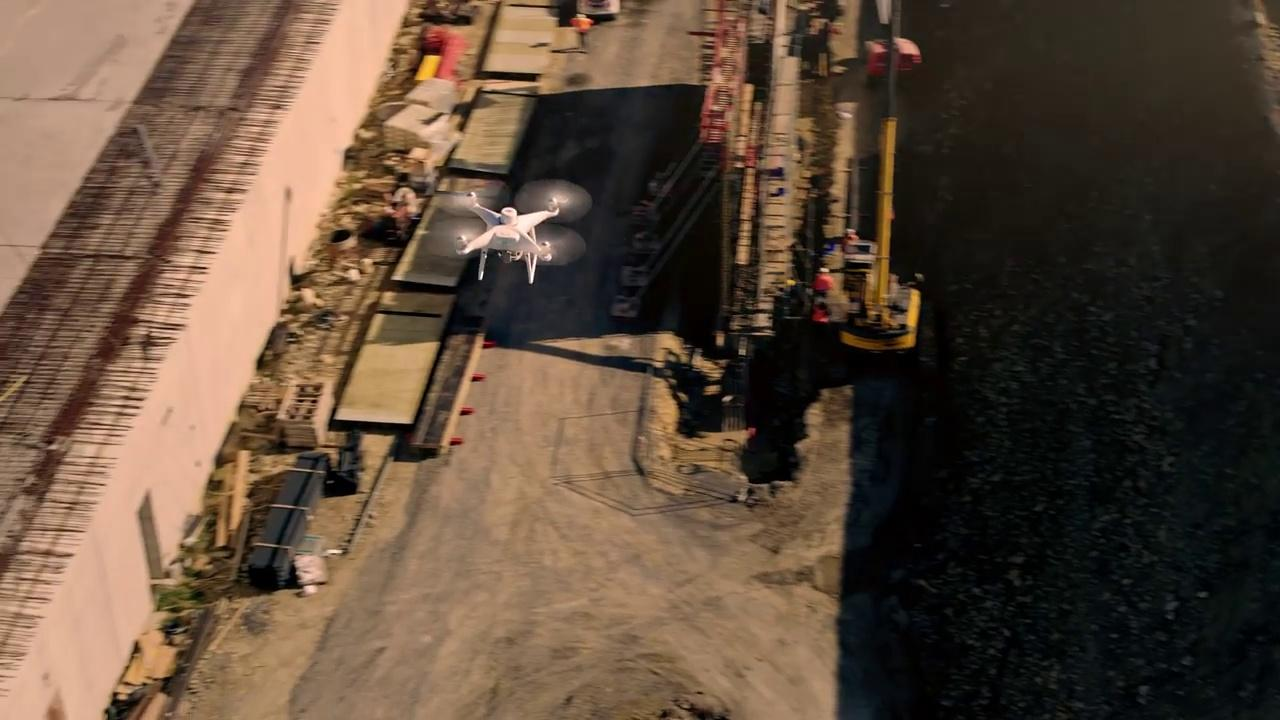drone: (430, 178, 595, 279)
